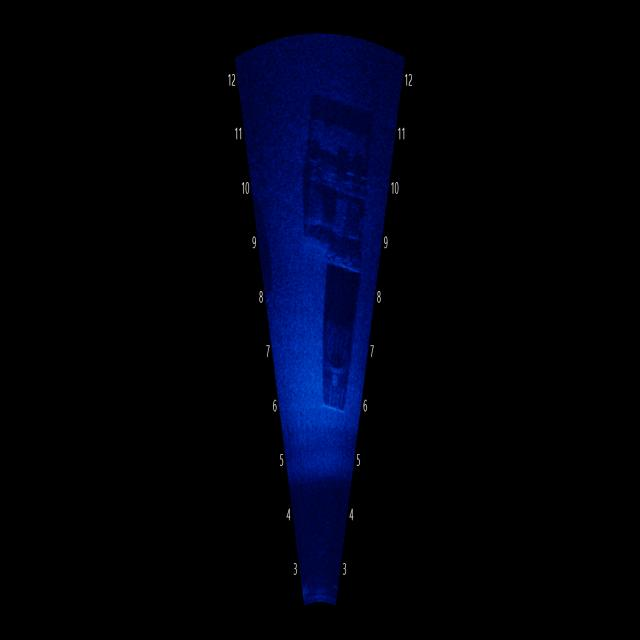square: (295, 99, 377, 273), (303, 308, 357, 435)
